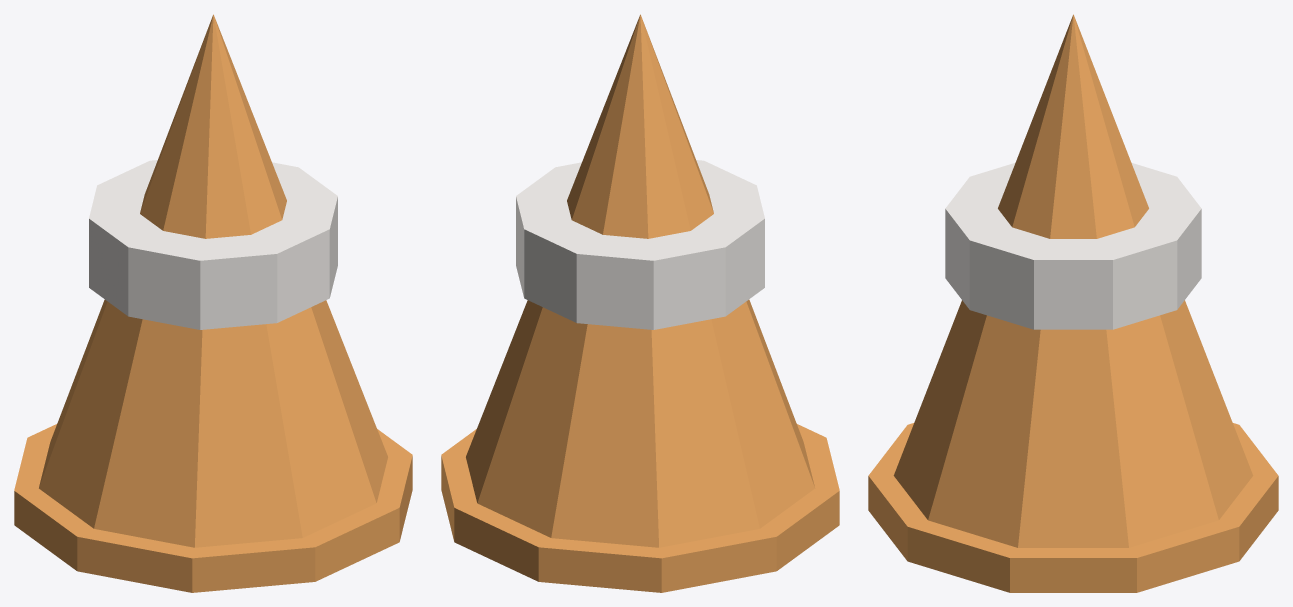
The picture shows the model from 3 angles, left to right: view 1: azimuth 30°, elevation 25°; view 2: azimuth 150°, elevation 25°; view 3: azimuth 270°, elevation 25°; orthographic projection.
Parts seen in each view (by area): view 1: Cone, Band, Base; view 2: Cone, Band, Base; view 3: Cone, Band, Base.
Part boxes in pixels (box(x1,y1,x2,y2)): Cone: box(39, 14, 387, 547); Band: box(89, 160, 337, 329); Base: box(14, 424, 412, 592); Cone: box(466, 14, 814, 547); Band: box(516, 160, 764, 329); Base: box(441, 424, 839, 592); Cone: box(893, 14, 1253, 547); Band: box(945, 162, 1201, 329); Base: box(868, 423, 1278, 592).
Bounding box in the file's own units: 0.6087 × 0.855 × 0.64.
